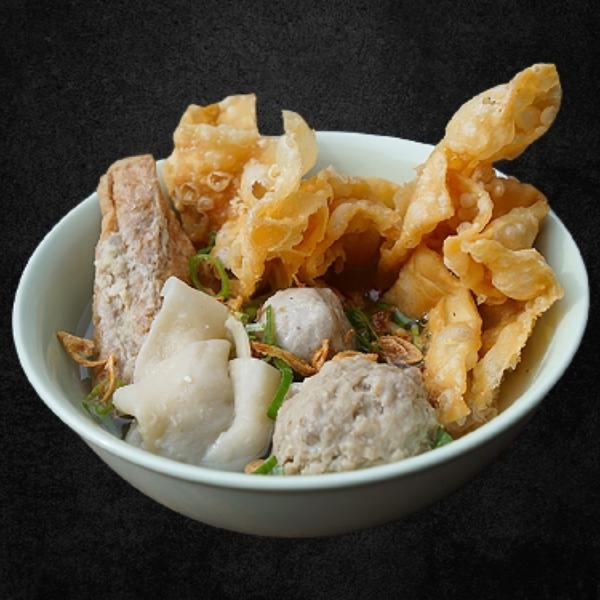bakso_malang: (56, 62, 563, 473)
